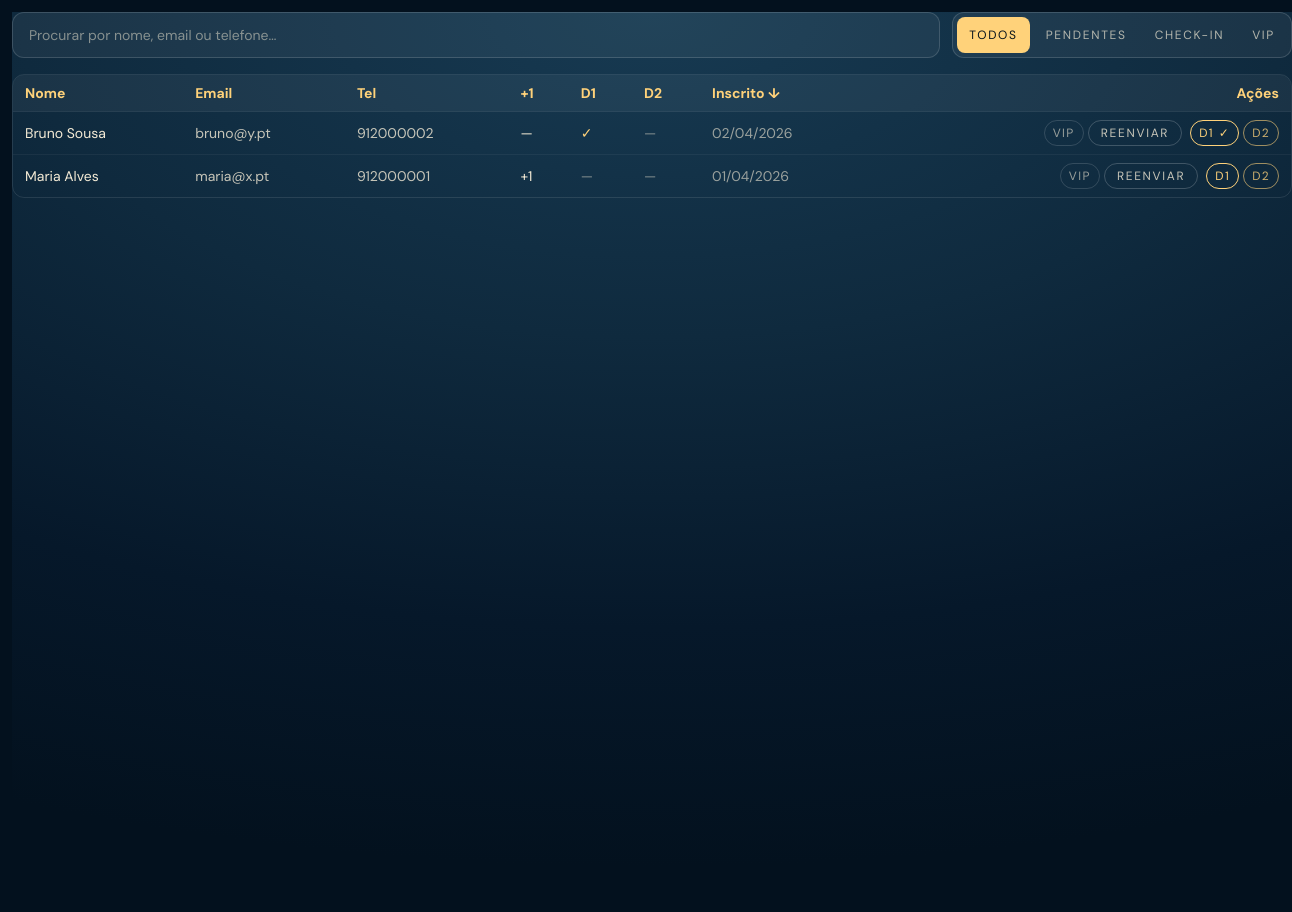
Test case: GuestsTable › filter pendentes esconde já checked-in
Click the button "Pendentes" at x=1086, y=35, box [1034,17,1139,53]
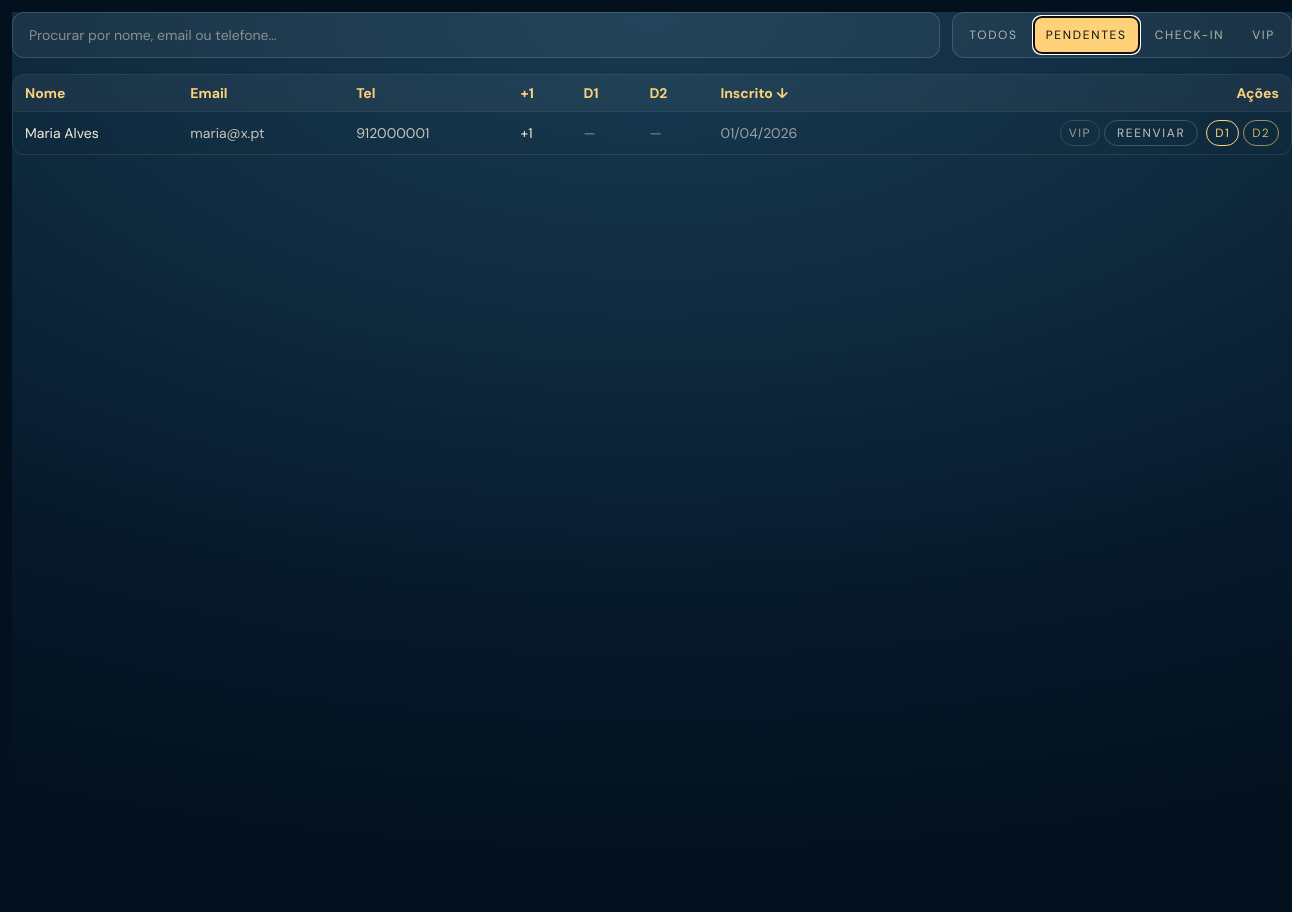
expect the text "Maria Alves" is shown: met, box [25,124,99,142]
expect the text "Bruno Sousa" is gone: met
